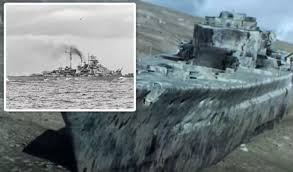tau_muctieu: (57, 23, 293, 164), (5, 52, 122, 82)
